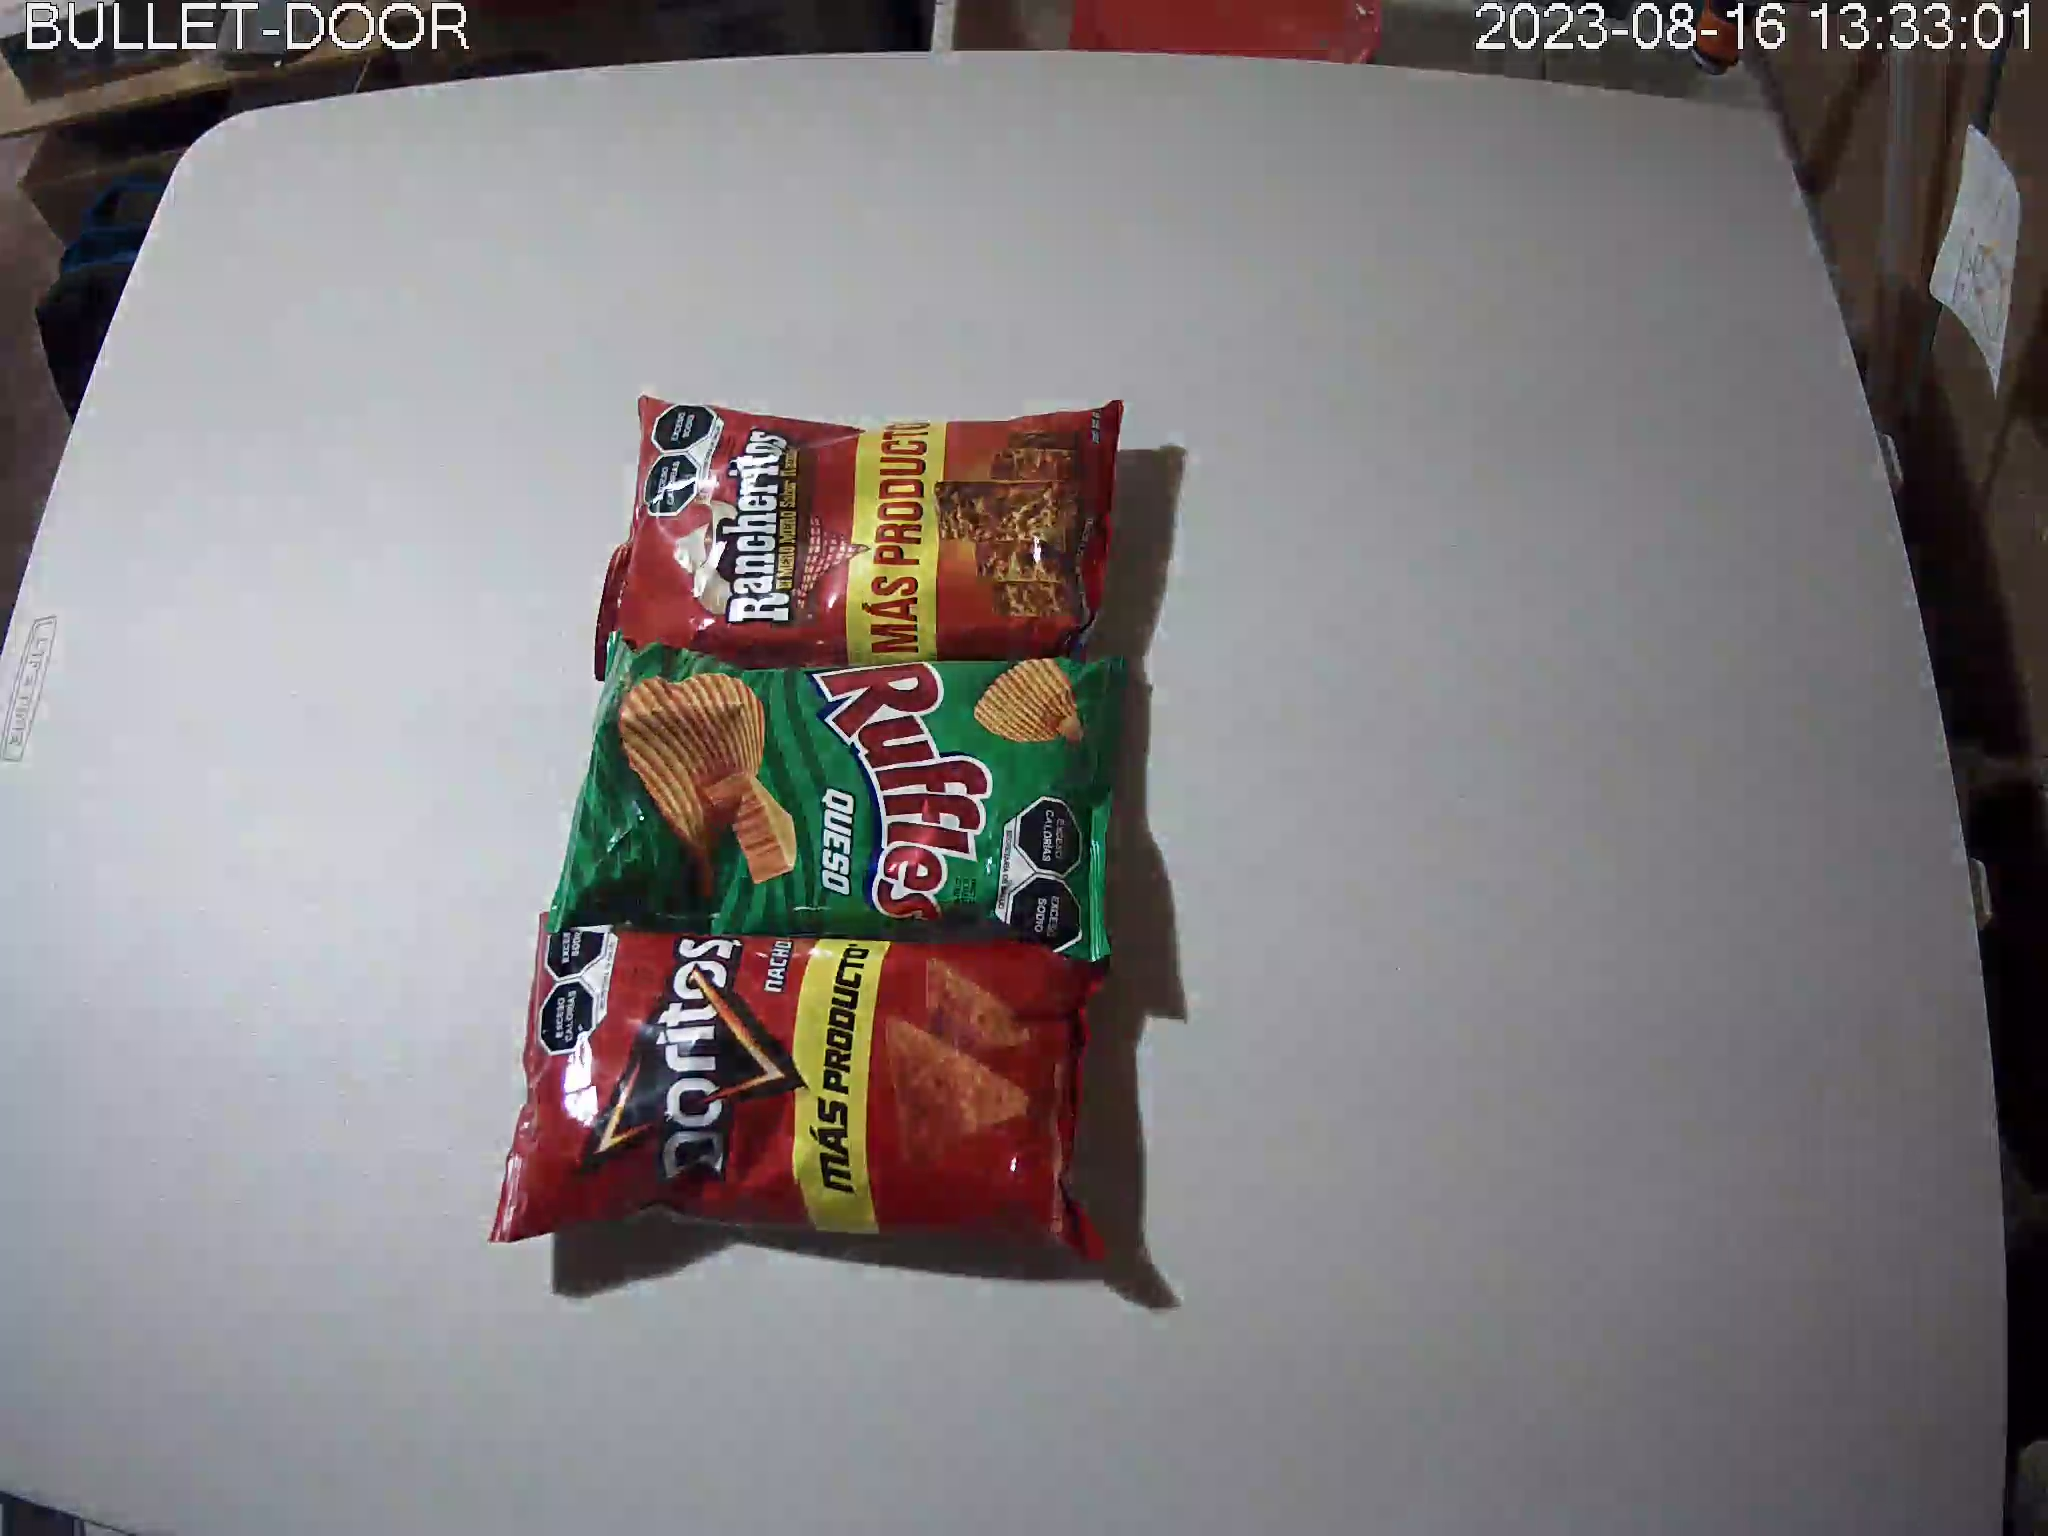DoritosN_61_F: (490, 913, 1116, 1270)
Rancheritos_58_F: (592, 394, 1127, 658)
RufflesQ_48_F: (552, 634, 1135, 963)
